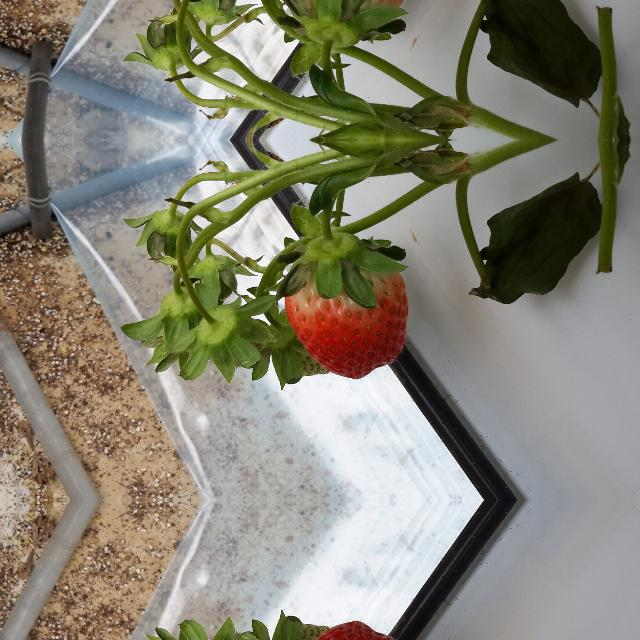Health_100: (285, 267, 409, 378)
